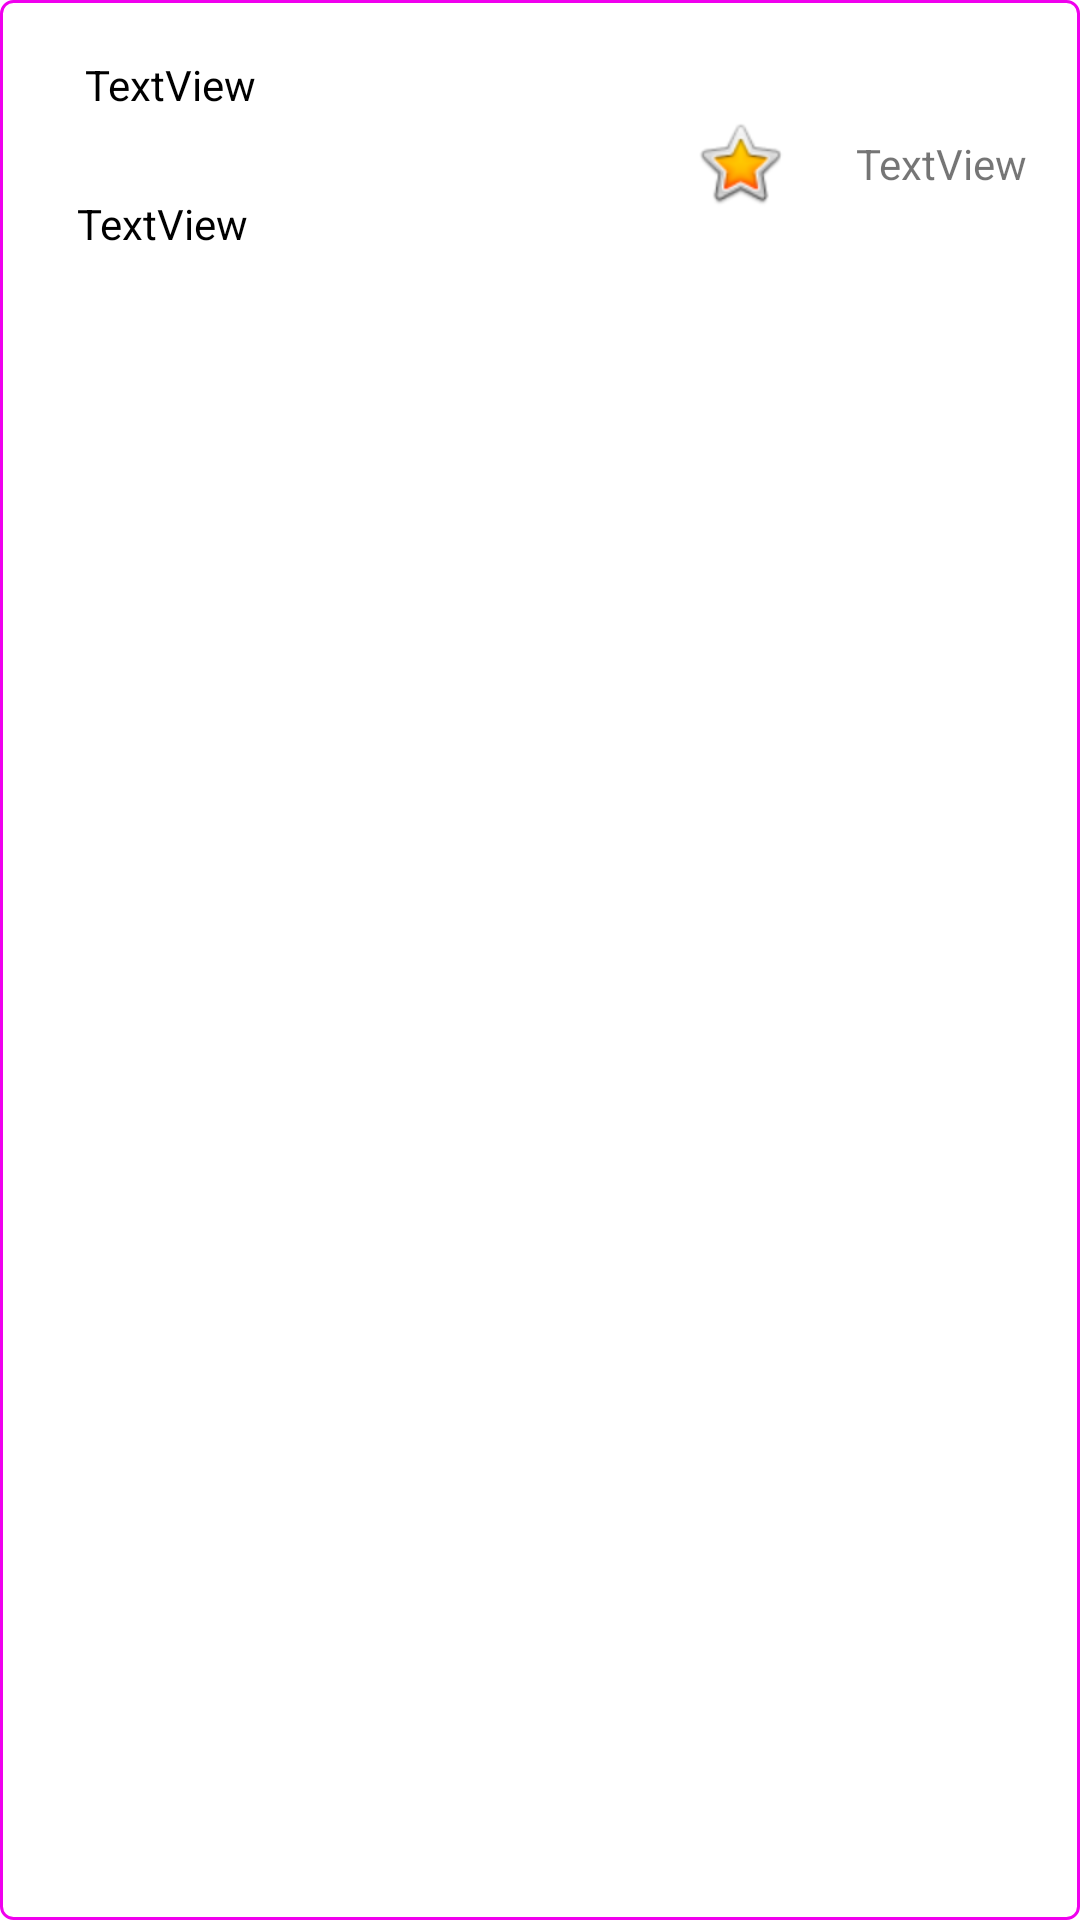

Icons on this 1080*1920 Android screen, each with the point to tap as (x=x, y=y):
star on: (x=741, y=164)
